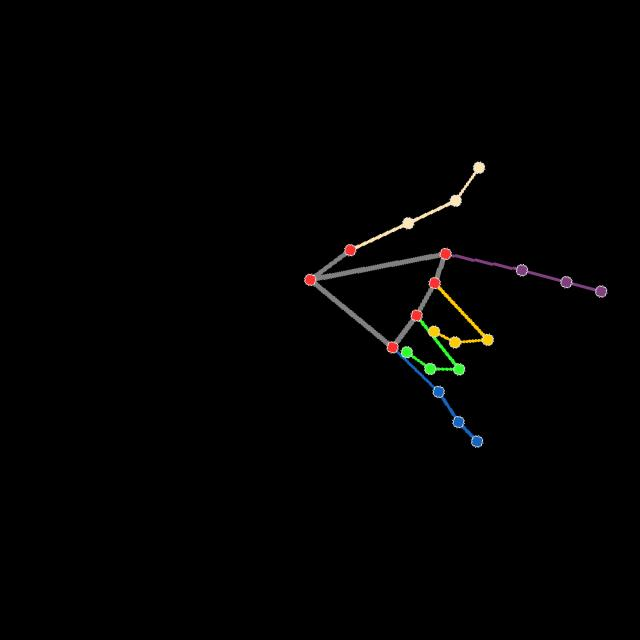spiderman: (298, 159, 611, 455)
